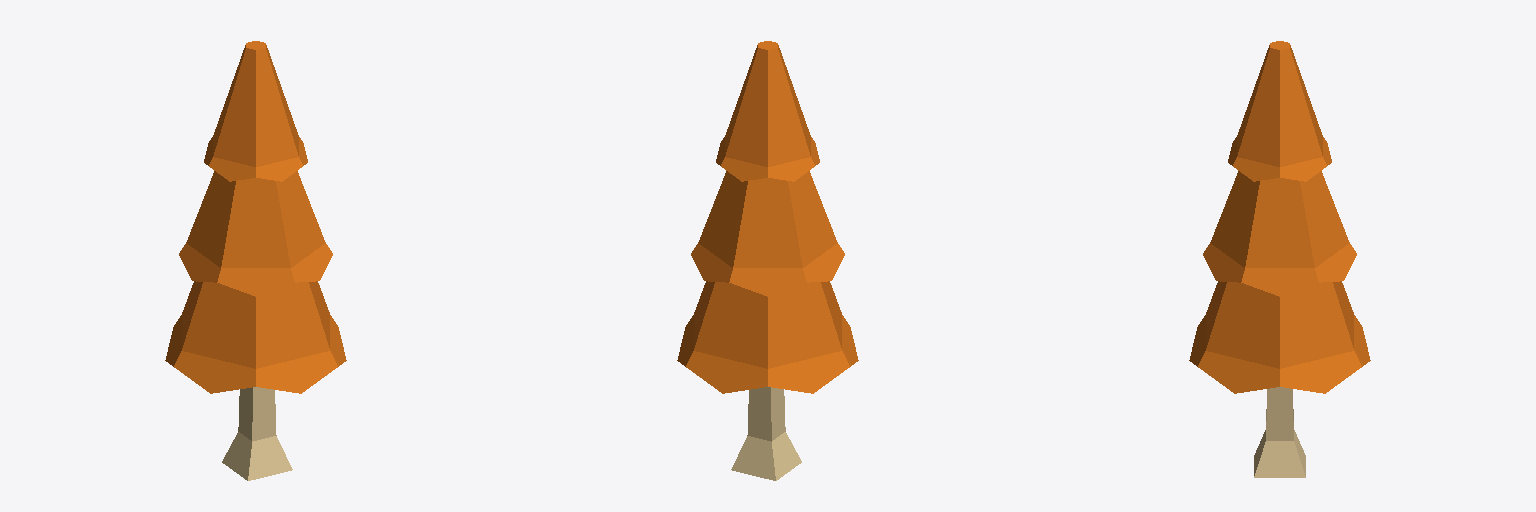
Rendered from treeFall.obj.
The picture shows the model from 3 angles: view 1: azimuth 30°, elevation 25°; view 2: azimuth 150°, elevation 25°; view 3: azimuth 270°, elevation 25°; orthographic projection.
Parts seen in each view (by area): view 1: treeFall; view 2: treeFall; view 3: treeFall.
Part boxes in pixels (x1,y1,x2,y2): treeFall: (165, 41, 346, 480); treeFall: (677, 41, 858, 480); treeFall: (1189, 41, 1370, 477).
Bounding box in the file's own units: 0.5529 × 1.35 × 0.5262.